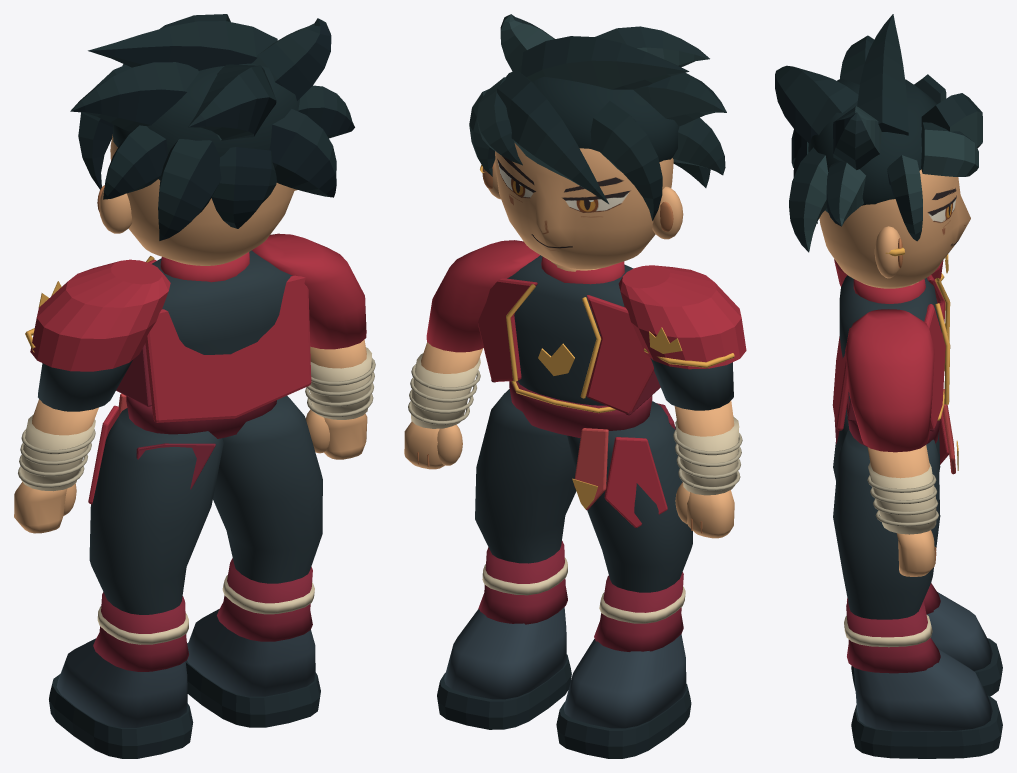
The model's file is edo_cinder_duelist.glb.
3 views of the same model, side by side, from view 1: azimuth 30°, elevation 25°; view 2: azimuth 150°, elevation 25°; view 3: azimuth 270°, elevation 25° (orthographic). The views are drawn at different scales.
Visible parts, largest first — view 1: Tapered trouser -1, Tapered trouser 1, Jacket / back, Left shoulder / crimson mantle, Vest / shaped ribcage, Boot upper -1, Boot upper 1, Head / sculpted cheeks jaw nose, Sleeve 1, Crown / sweep left, Crown / low side spike, Boot sole -1 (+28 smaller); view 2: Head / sculpted cheeks jaw nose, Tapered trouser 1, Tapered trouser -1, Left shoulder / crimson mantle, Vest / shaped ribcage, Boot upper -1, Boot upper 1, Sleeve 1, Crown / sweep left, Fringe / diagonal broad lock, Jacket / front -1, Hair / fitted skull (+30 smaller); view 3: Sleeve 1, Tapered trouser 1, Head / sculpted cheeks jaw nose, Boot upper 1, Boot sole 1, Hair / fitted skull, Crown / sweep left, Boot cuff 1, Rear / crown rake, Boot upper -1, Rear / right nape, Forearm wrap 1 (+20 smaller).
Boxes of the visible parts, box(x1,y1,x2,y2) form: Tapered trouser -1: box(89, 408, 223, 614); Tapered trouser 1: box(213, 395, 322, 583); Jacket / back: box(145, 275, 311, 422); Left shoulder / crimson mantle: box(30, 259, 170, 371); Vest / shaped ribcage: box(152, 250, 292, 354); Boot upper -1: box(56, 638, 187, 727); Boot upper 1: box(187, 609, 315, 696); Head / sculpted cheeks jaw nose: box(110, 134, 294, 265); Sleeve 1: box(252, 233, 366, 349); Crown / sweep left: box(88, 21, 277, 70); Crown / low side spike: box(70, 62, 198, 131); Boot sole -1: box(49, 674, 193, 758); Head / sculpted cheeks jaw nose: box(495, 143, 673, 269); Tapered trouser 1: box(475, 389, 576, 563); Tapered trouser -1: box(567, 401, 692, 592); Left shoulder / crimson mantle: box(618, 265, 746, 369); Vest / shaped ribcage: box(507, 255, 633, 405); Boot upper -1: box(563, 634, 686, 728); Boot upper 1: box(444, 607, 566, 699); Sleeve 1: box(426, 240, 539, 352); Crown / sweep left: box(521, 36, 689, 89); Fringe / diagonal broad lock: box(497, 69, 608, 203); Jacket / front -1: box(586, 295, 653, 413); Hair / fitted skull: box(532, 76, 679, 161); Sleeve 1: box(845, 309, 934, 452); Tapered trouser 1: box(833, 430, 940, 619); Head / sculpted cheeks jaw nose: box(819, 169, 970, 288); Boot upper 1: box(854, 648, 992, 731); Boot sole 1: box(851, 695, 1002, 758); Hair / fitted skull: box(808, 78, 936, 212); Crown / sweep left: box(857, 14, 908, 135); Boot cuff 1: box(846, 600, 940, 673); Rear / crown rake: box(775, 65, 858, 143); Boot upper -1: box(927, 592, 992, 670); Rear / right nape: box(789, 147, 828, 252); Forearm wrap 1: box(868, 462, 936, 534).
Size of the model in its own units: 1.68 by 3.29 by 1.04.
15 materials, 1 textured.
